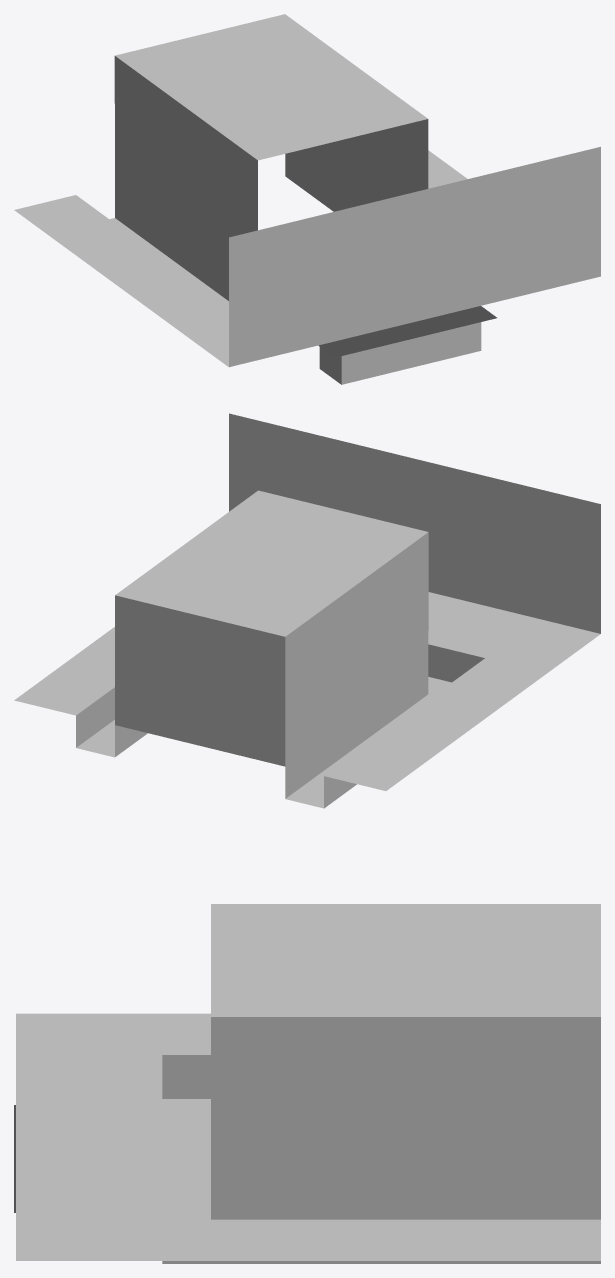
Rendered from 2Wall&Door5.obj.
3 renders of one model, top to bottom at view 1: azimuth 30°, elevation 25°; view 2: azimuth 150°, elevation 25°; view 3: azimuth 270°, elevation 25°, orthographic. The views are drawn at different scales.
Parts seen in each view (by area): view 1: map; view 2: map; view 3: map.
Part boxes in pixels (left/top/right/bottom): map: left=14, top=14, right=600, bottom=384; map: left=14, top=413, right=600, bottom=808; map: left=14, top=904, right=600, bottom=1263.
Bounding box in the file's own units: 3 × 1.38 × 3.01.
